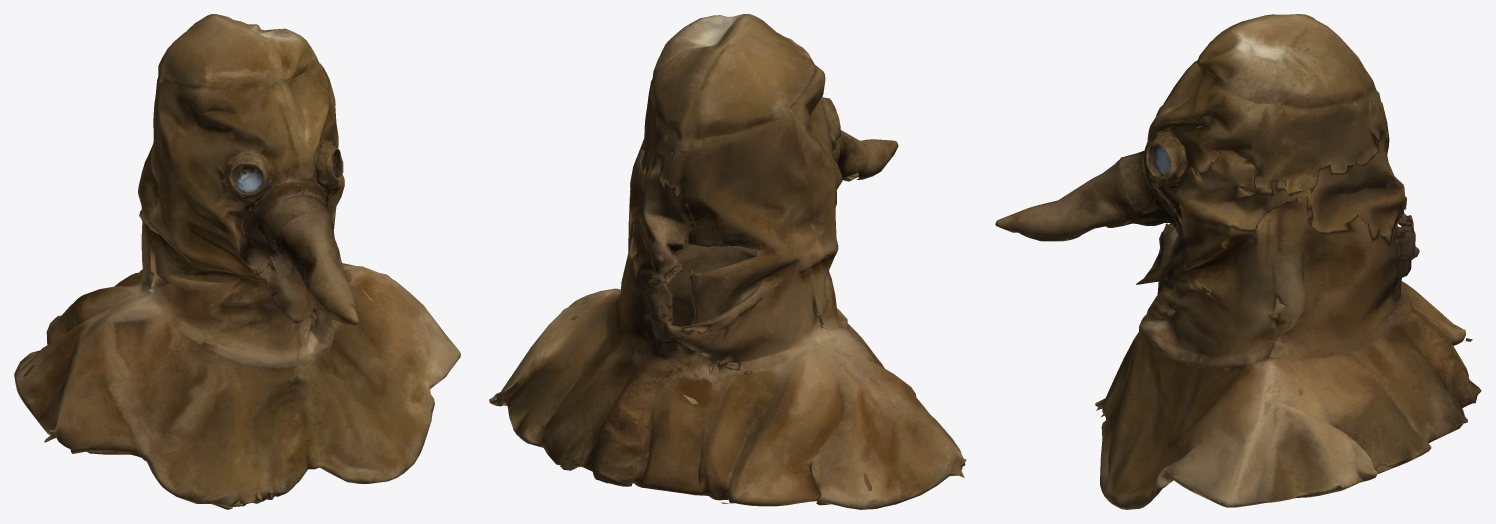
Rendered from pestmaske.glb.
3 views of the same model, side by side, from view 1: azimuth 30°, elevation 25°; view 2: azimuth 150°, elevation 25°; view 3: azimuth 270°, elevation 25° (orthographic). The views are drawn at different scales.
Parts seen in each view (by area): view 1: geometry_0; view 2: geometry_0; view 3: geometry_0.
Boxes of the visible parts, x1,y1,x2,y2 form: geometry_0: (14,14,460,509); geometry_0: (489,14,966,509); geometry_0: (995,14,1481,509).
Size of the model in its own units: 1 by 0.9963 by 0.9987.
1 material, 1 textured.
